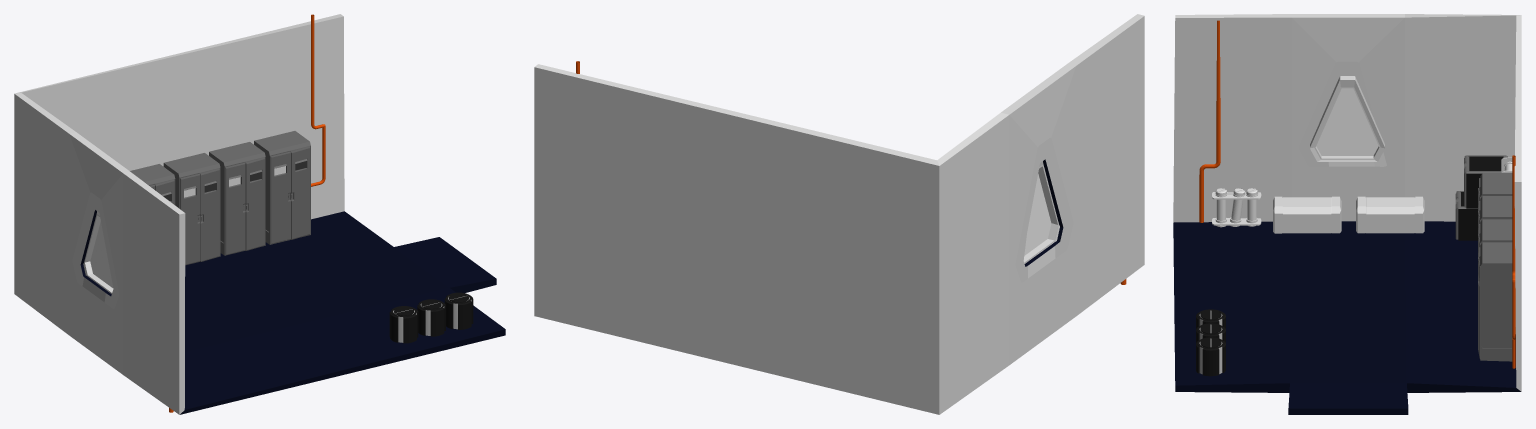
The model's file is magazzino.fbx.
3 views of the same model, side by side, from view 1: azimuth 30°, elevation 25°; view 2: azimuth 150°, elevation 25°; view 3: azimuth 270°, elevation 25° (orthographic). The views are drawn at different scales.
Parts seen in each view (by area): view 1: Strutura, Armadietti, Barile.001, Finestra-1, Tubo-1; view 2: Strutura, Finestra-1; view 3: Strutura, Armadietti, Finestra-1, Cassa-cubica.001, Barile.001, Energy-bar, CEST.001|corpo|Dupli|, CEST|corpo|Dupli|, CEST|Coperchio|Dupli|1, CEST.001|Coperchio|Dupli|1, Tubo, Tubo-1.
Part boxes in pixels (bbox=[...]): Strutura: bbox=[14, 14, 505, 414]; Armadietti: bbox=[130, 131, 310, 265]; Barile.001: bbox=[389, 292, 473, 343]; Finestra-1: bbox=[83, 211, 113, 293]; Tubo-1: bbox=[311, 14, 325, 186]; Strutura: bbox=[534, 14, 1144, 414]; Finestra-1: bbox=[1023, 161, 1059, 263]; Strutura: bbox=[1173, 14, 1521, 414]; Armadietti: bbox=[1478, 173, 1512, 361]; Finestra-1: bbox=[1310, 76, 1384, 161]; Cassa-cubica.001: bbox=[1455, 155, 1507, 240]; Barile.001: bbox=[1196, 309, 1225, 376]; Energy-bar: bbox=[1212, 157, 1512, 227]; CEST.001|corpo|Dupli|: bbox=[1356, 196, 1424, 233]; CEST|corpo|Dupli|: bbox=[1273, 196, 1341, 233]; CEST|Coperchio|Dupli|1: bbox=[1283, 197, 1331, 222]; CEST.001|Coperchio|Dupli|1: bbox=[1366, 197, 1414, 222]; Tubo: bbox=[1199, 20, 1220, 222]; Tubo-1: bbox=[1512, 155, 1515, 368].
Bounding box in the file's own units: 1394 × 775 × 1076.
